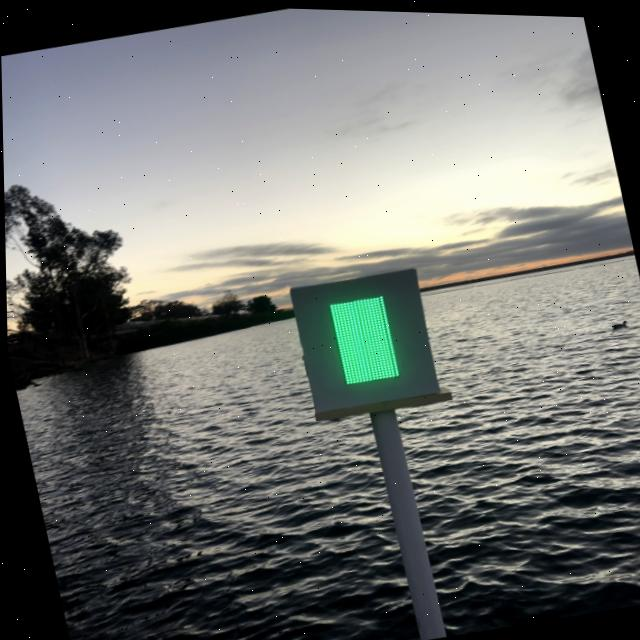led: (299, 271, 433, 412)
